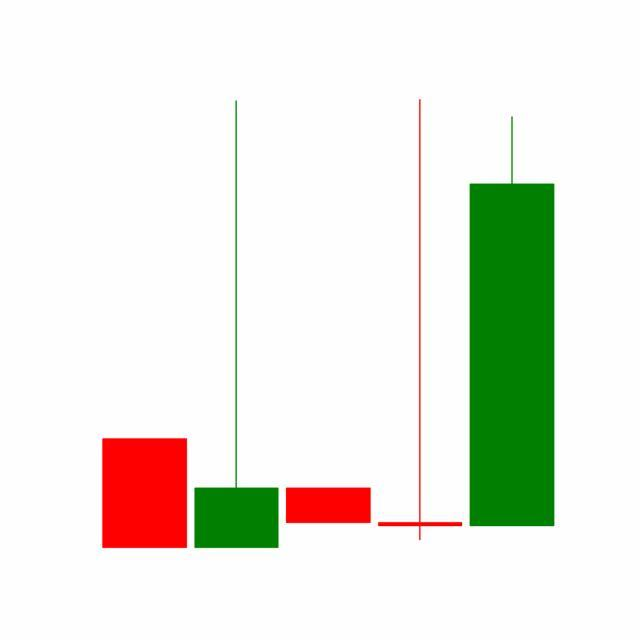Gravestone Doji: (374, 95, 468, 546)
